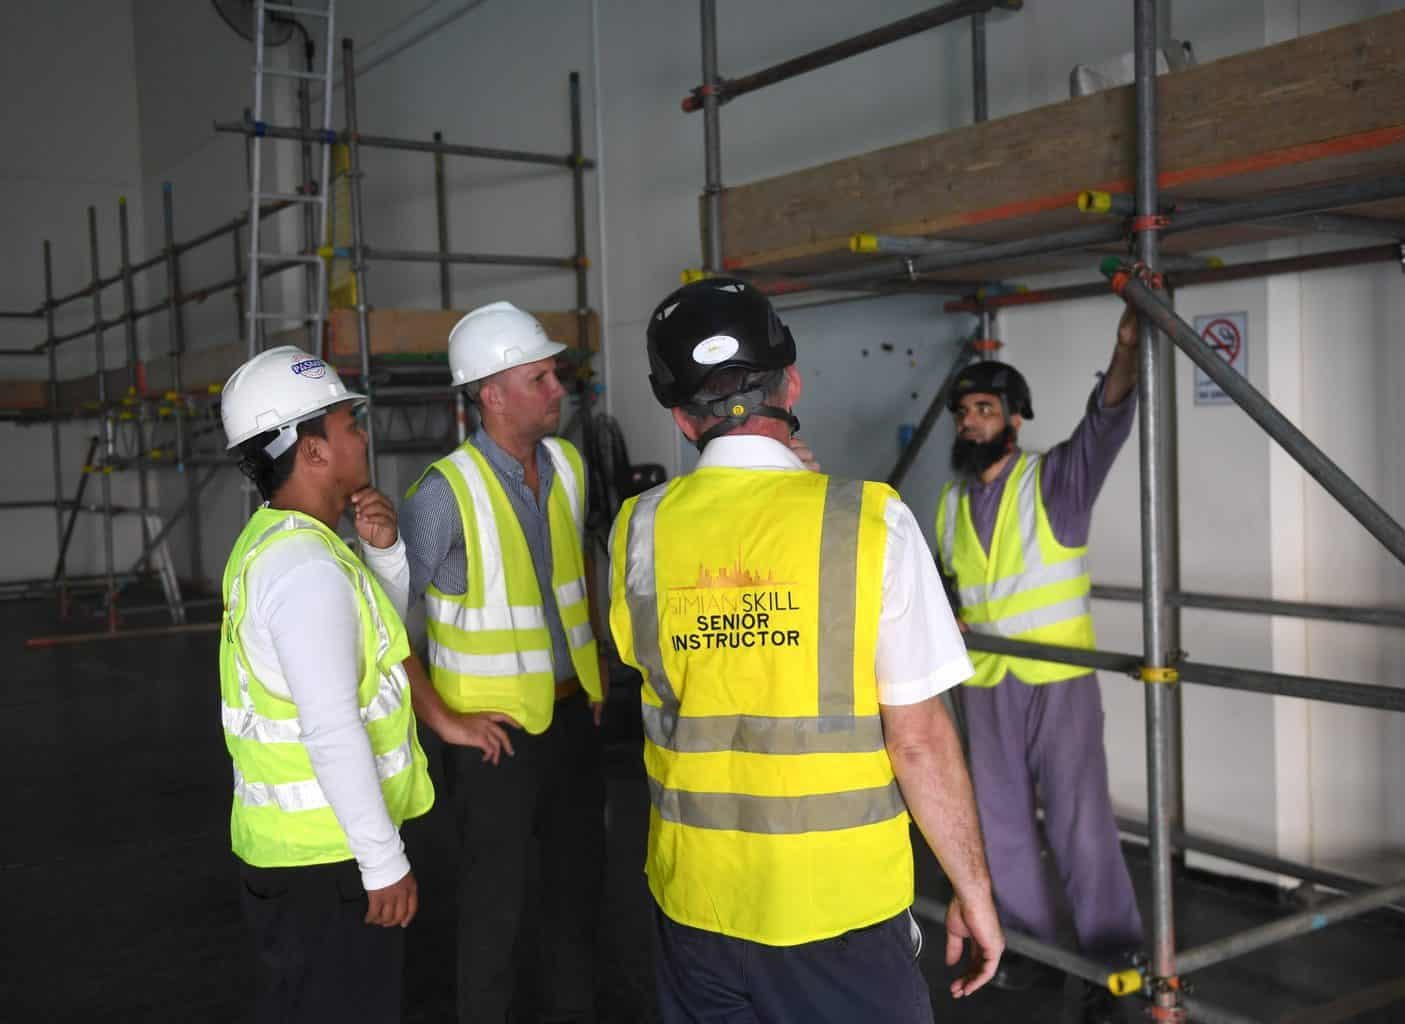Helmet: (640, 272, 828, 473), (214, 338, 391, 516), (433, 298, 585, 449), (942, 347, 1040, 486)
Reflective vest: (607, 460, 930, 954), (209, 496, 439, 874), (404, 434, 615, 742), (932, 451, 1104, 692)
